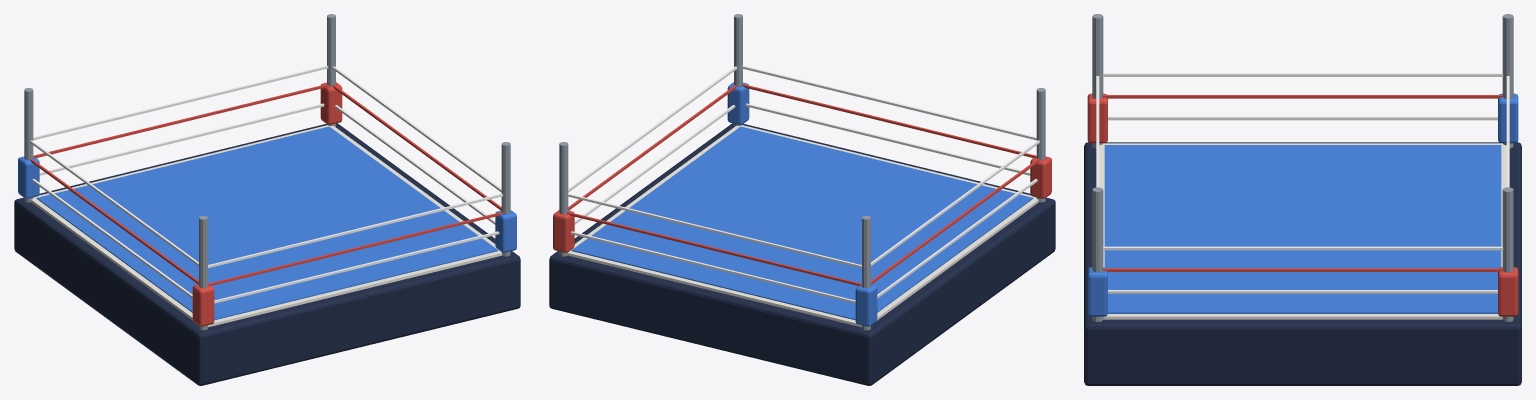
File: Boxing_Ring.fbx
3 views of the same model, side by side, from view 1: azimuth 30°, elevation 25°; view 2: azimuth 150°, elevation 25°; view 3: azimuth 270°, elevation 25° (orthographic). The views are drawn at different scales.
Parts seen in each view (by area): view 1: Ring; view 2: Ring; view 3: Ring.
Boxes of the visible parts, x1,y1,x2,y2 form: Ring: (14, 14, 520, 385); Ring: (549, 14, 1055, 385); Ring: (1084, 14, 1521, 385).
Bounding box in the file's own units: 6.4 × 3.1 × 6.4.
